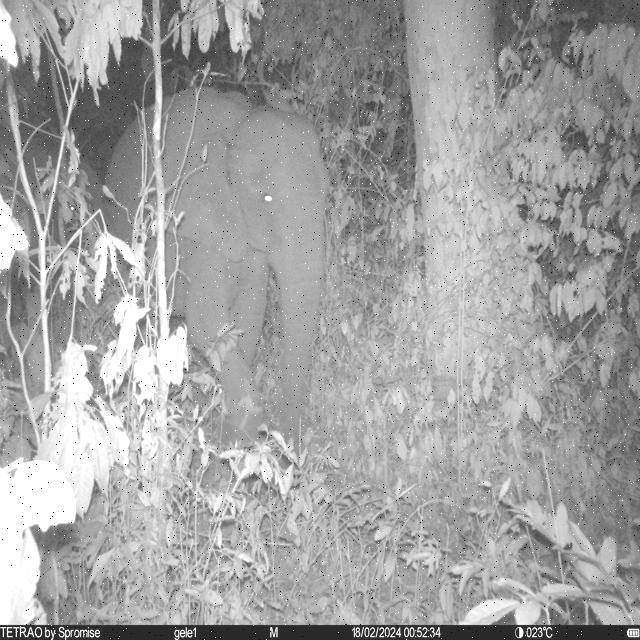ear: (156, 112, 252, 266)
elephant: (106, 85, 331, 465), (28, 150, 106, 258)
